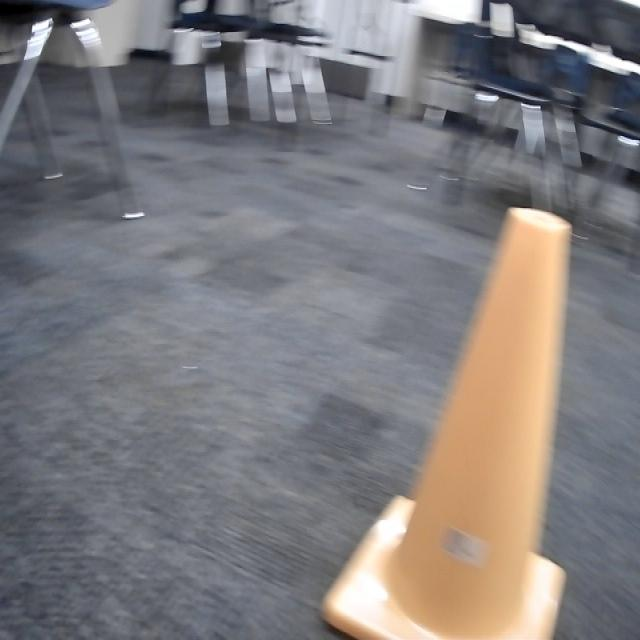cone: (319, 195, 577, 640)
